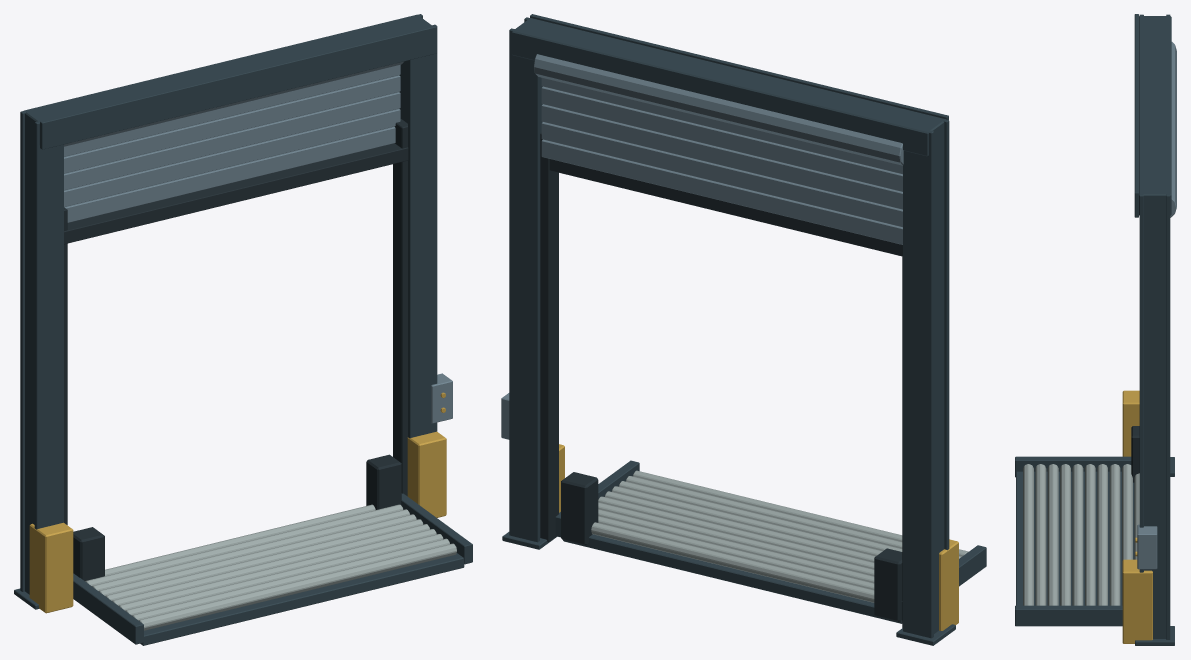
File: dock.glb
The picture shows the model from 3 angles, left to right: view 1: azimuth 30°, elevation 25°; view 2: azimuth 150°, elevation 25°; view 3: azimuth 270°, elevation 25°; orthographic projection. The views are drawn at different scales.
Parts seen in each view (by area): view 1: dock__material_02, dock__material_00, dock__material_04, dock__material_03, dock__material_01; view 2: dock__material_02, dock__material_00, dock__material_04, dock__material_03, dock__material_01; view 3: dock__material_02, dock__material_04, dock__material_01, dock__material_00, dock__material_03.
Part boxes in pixels (left/top/right/bottom): dock__material_02: left=14, top=14, right=472, bottom=645; dock__material_00: left=64, top=61, right=452, bottom=423; dock__material_04: left=85, top=504, right=456, bottom=630; dock__material_03: left=64, top=119, right=408, bottom=580; dock__material_01: left=29, top=392, right=446, bottom=613; dock__material_02: left=502, top=14, right=986, bottom=645; dock__material_00: left=501, top=54, right=903, bottom=439; dock__material_04: left=591, top=470, right=968, bottom=602; dock__material_03: left=540, top=132, right=902, bottom=627; dock__material_01: left=559, top=444, right=958, bottom=630; dock__material_02: left=1015, top=14, right=1174, bottom=645; dock__material_04: left=1023, top=464, right=1139, bottom=605; dock__material_01: left=1122, top=390, right=1152, bottom=643; dock__material_00: left=1137, top=42, right=1176, bottom=569; dock__material_03: left=1131, top=426, right=1139, bottom=482.
Bounding box in the file's own units: 4.72 × 5.22 × 1.7.
